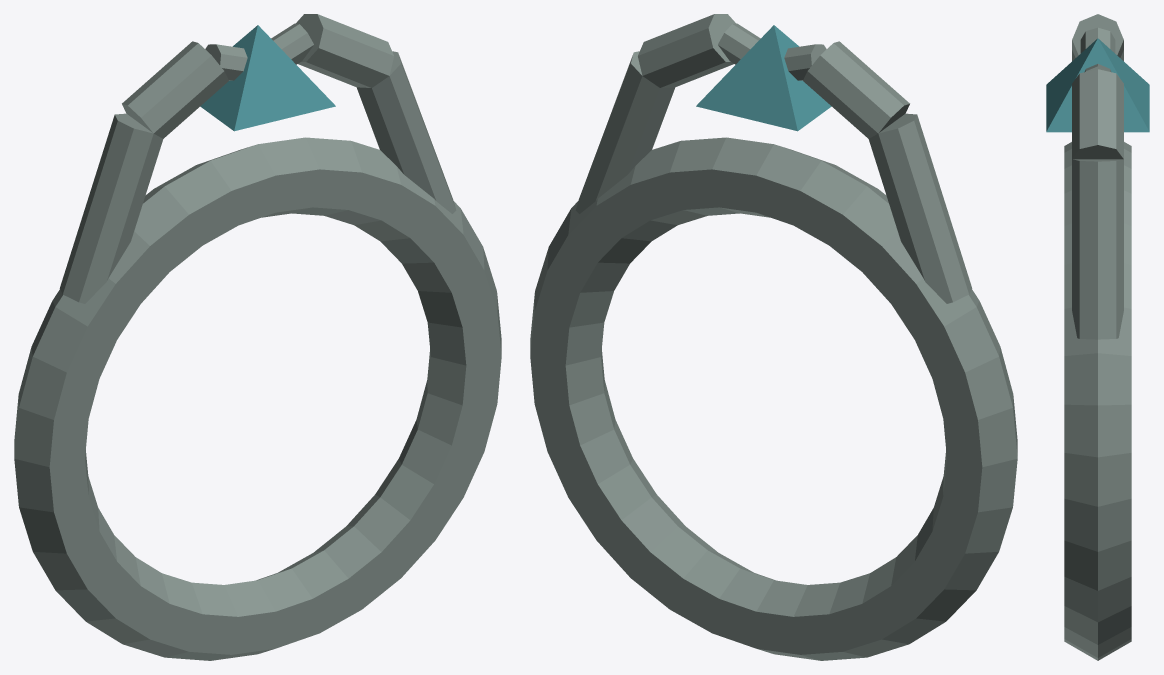
The model's file is AE_Item_CrescentPilgrim.fbx.
3 renders of one model, left to right at view 1: azimuth 30°, elevation 25°; view 2: azimuth 150°, elevation 25°; view 3: azimuth 270°, elevation 25°, orthographic. The views are drawn at different scales.
Visible parts, largest first — view 1: AE_Item_CrescentPilgrim; view 2: AE_Item_CrescentPilgrim; view 3: AE_Item_CrescentPilgrim.
Part boxes in pixels (x1=…): AE_Item_CrescentPilgrim: x1=14, y1=14, x2=501, y2=660; AE_Item_CrescentPilgrim: x1=530, y1=14, x2=1017, y2=660; AE_Item_CrescentPilgrim: x1=1046, y1=14, x2=1149, y2=660.
Size of the model in its own units: 0.124 by 0.153 by 0.024.
